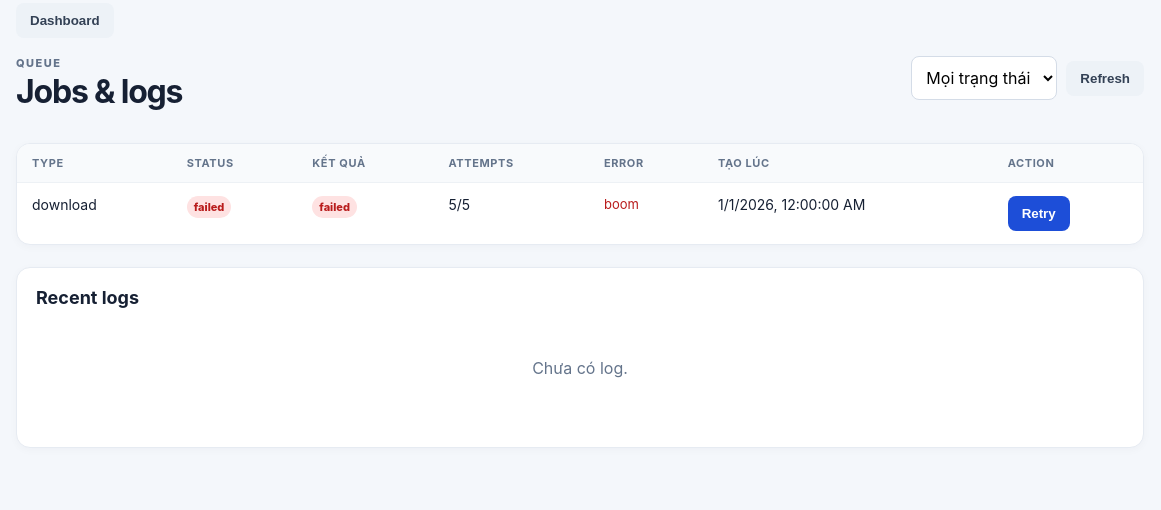
Test: JobsPage › shows the server refusal when a retry conflicts and keeps the button usable afterwards
Click the button "Retry" at (1039, 214), box [1008,196,1070,231]
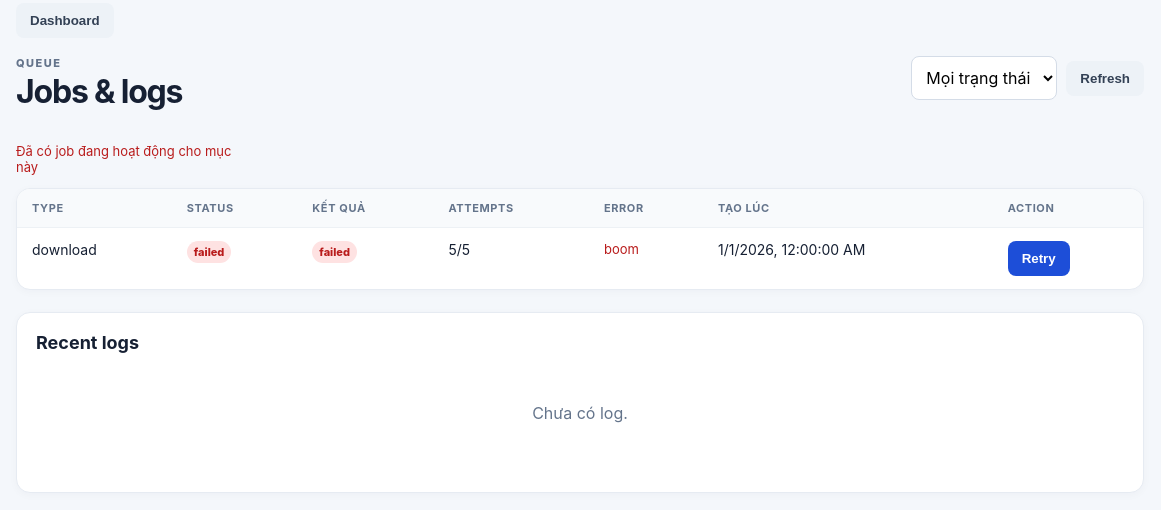
Expected: the button "Retry" is enabled, [1008,241,1070,276]
Expected: the message shows "Đã có job đang hoạt động", [16,143,232,175]
